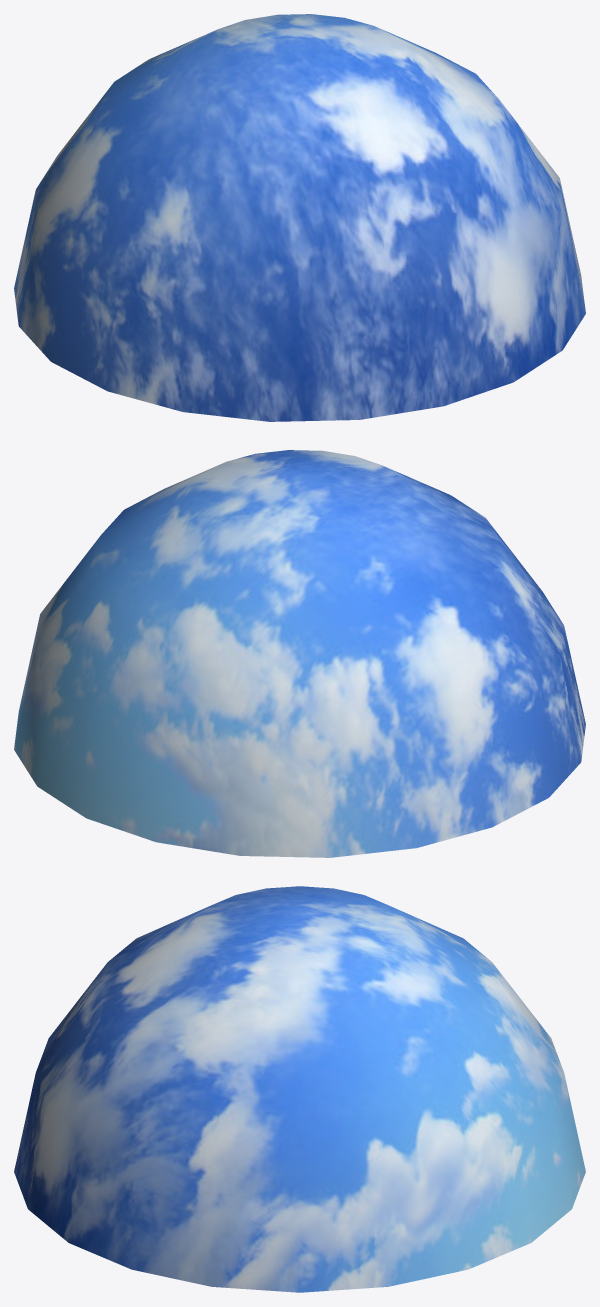
Rendered from sky_doom.fbx.
3 views of the same model, one above another, from view 1: azimuth 30°, elevation 25°; view 2: azimuth 150°, elevation 25°; view 3: azimuth 270°, elevation 25° (orthographic).
Visible parts, largest first — view 1: pSphere1; view 2: pSphere1; view 3: pSphere1.
Boxes of the visible parts, box(x1,y1,x2,y2) form: pSphere1: box(14, 14, 585, 421); pSphere1: box(14, 450, 585, 857); pSphere1: box(14, 886, 585, 1292).
Bounding box in the file's own units: 409 × 205 × 409.
